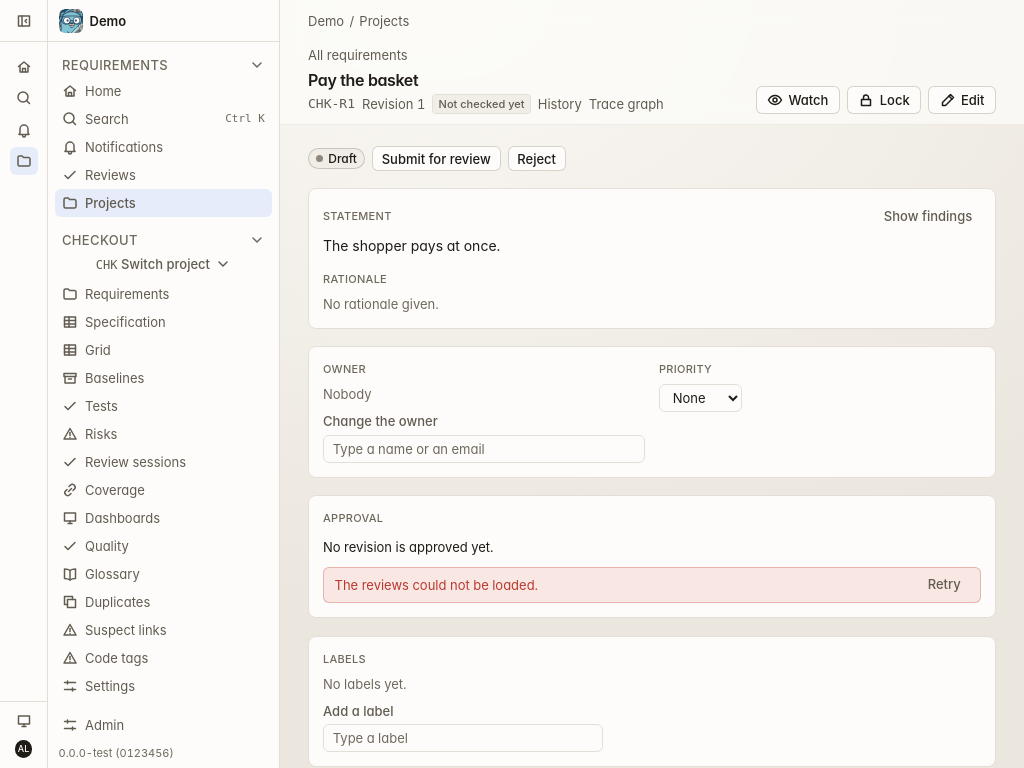
Test: a requirement's status › offers the transitions the reader may take, and takes one
Expected: the element showing "Draft Submit for review Reject" is shown, 308,146 -> 566,171
Expected: the text "Draft" is shown, 308,148 -> 365,169
Click the button "Submit for review" at (436, 159), box 372,146 -> 501,171
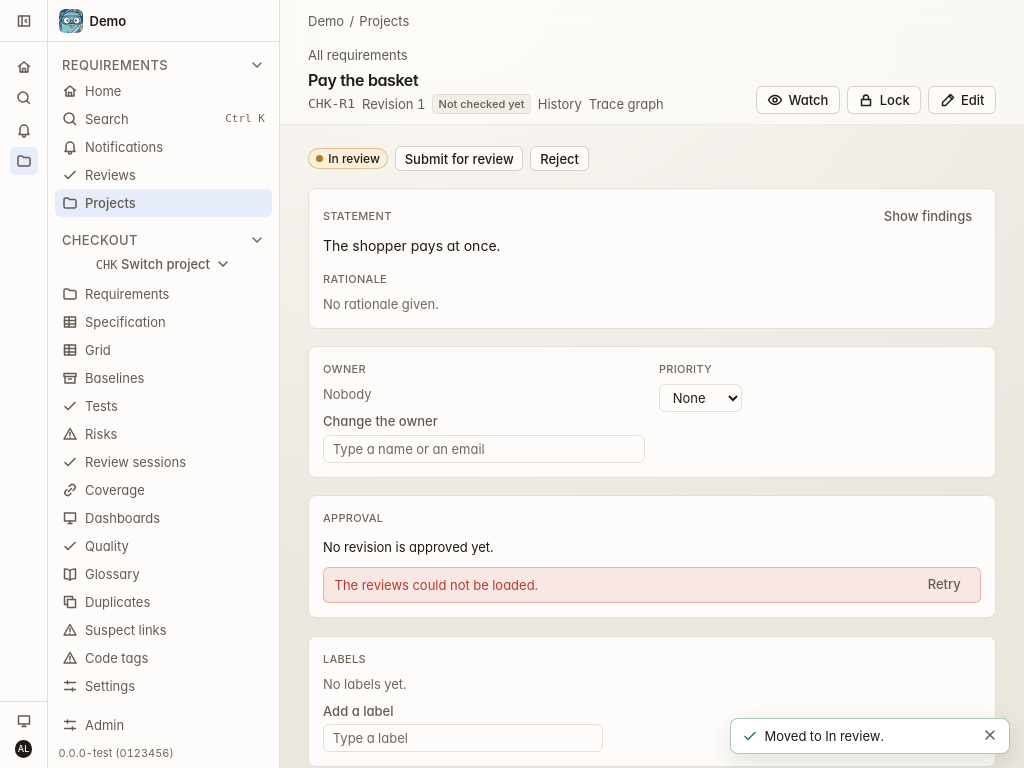
Now the text "Moved to In review." is shown, box 764,728 -> 884,744
